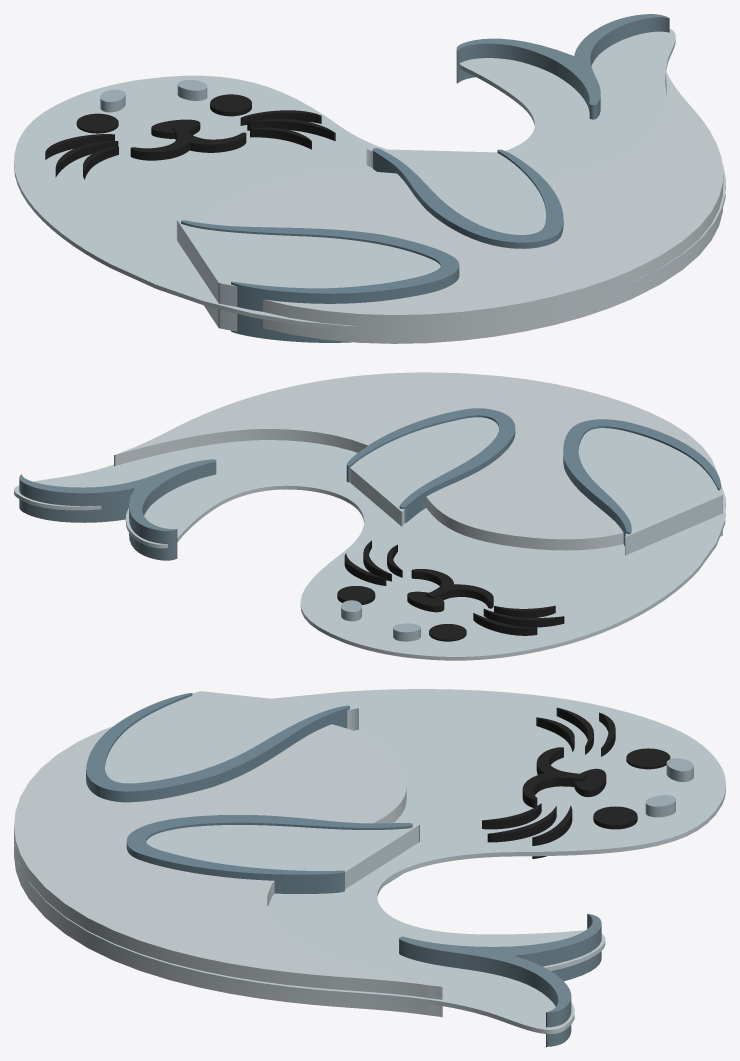
File: emoji_u1f9ad.glb
3 views of the same model, one above another, from view 1: azimuth 30°, elevation 25°; view 2: azimuth 150°, elevation 25°; view 3: azimuth 270°, elevation 25° (orthographic). The views are drawn at different scales.
Parts seen in each view (by area): view 1: emoji_u1f9ad; view 2: emoji_u1f9ad; view 3: emoji_u1f9ad.
Part boxes in pixels (x1,y1,x2,y2): emoji_u1f9ad: (14, 14, 725, 343); emoji_u1f9ad: (14, 372, 725, 660); emoji_u1f9ad: (14, 689, 725, 1046).
Bounding box in the file's own units: 0.0339 × 0.0024 × 0.0299.
